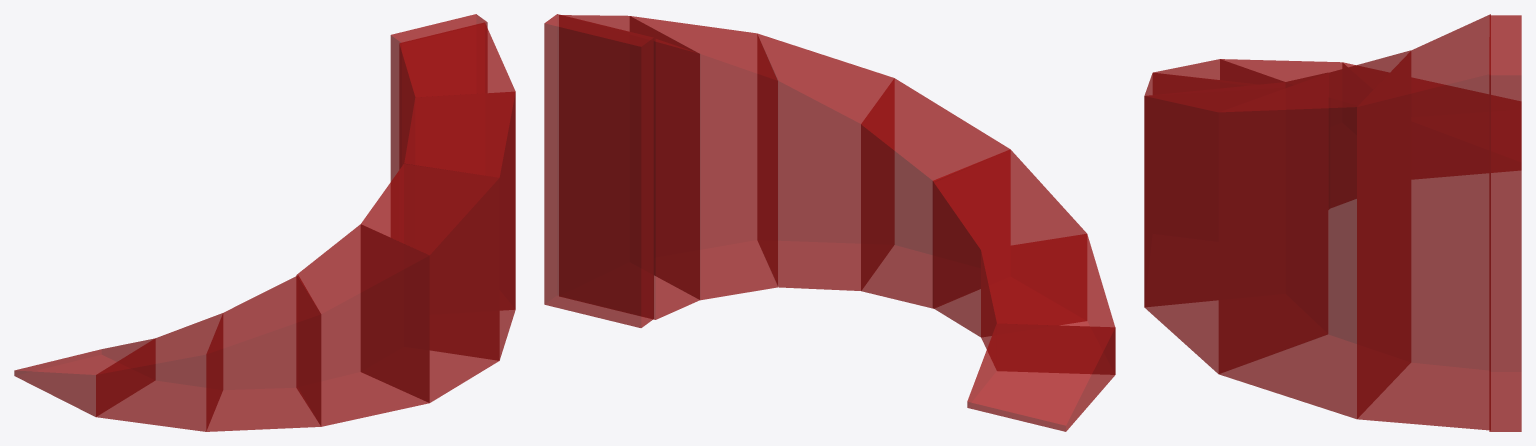
Rendered from SM_Bld_Stairs_Round_L_01_Collision.fbx.
3 renders of one model, left to right at view 1: azimuth 30°, elevation 25°; view 2: azimuth 150°, elevation 25°; view 3: azimuth 270°, elevation 25°, orthographic. The views are drawn at different scales.
Visible parts, largest first — view 1: SM_Bld_Stairs_Round_L_01_Collision; view 2: SM_Bld_Stairs_Round_L_01_Collision; view 3: SM_Bld_Stairs_Round_L_01_Collision.
Boxes of the visible parts, x1,y1,x2,y2 form: SM_Bld_Stairs_Round_L_01_Collision: [14, 14, 515, 431]; SM_Bld_Stairs_Round_L_01_Collision: [544, 14, 1115, 431]; SM_Bld_Stairs_Round_L_01_Collision: [1144, 14, 1521, 431].
Size of the model in its own units: 970 by 500 by 479.
